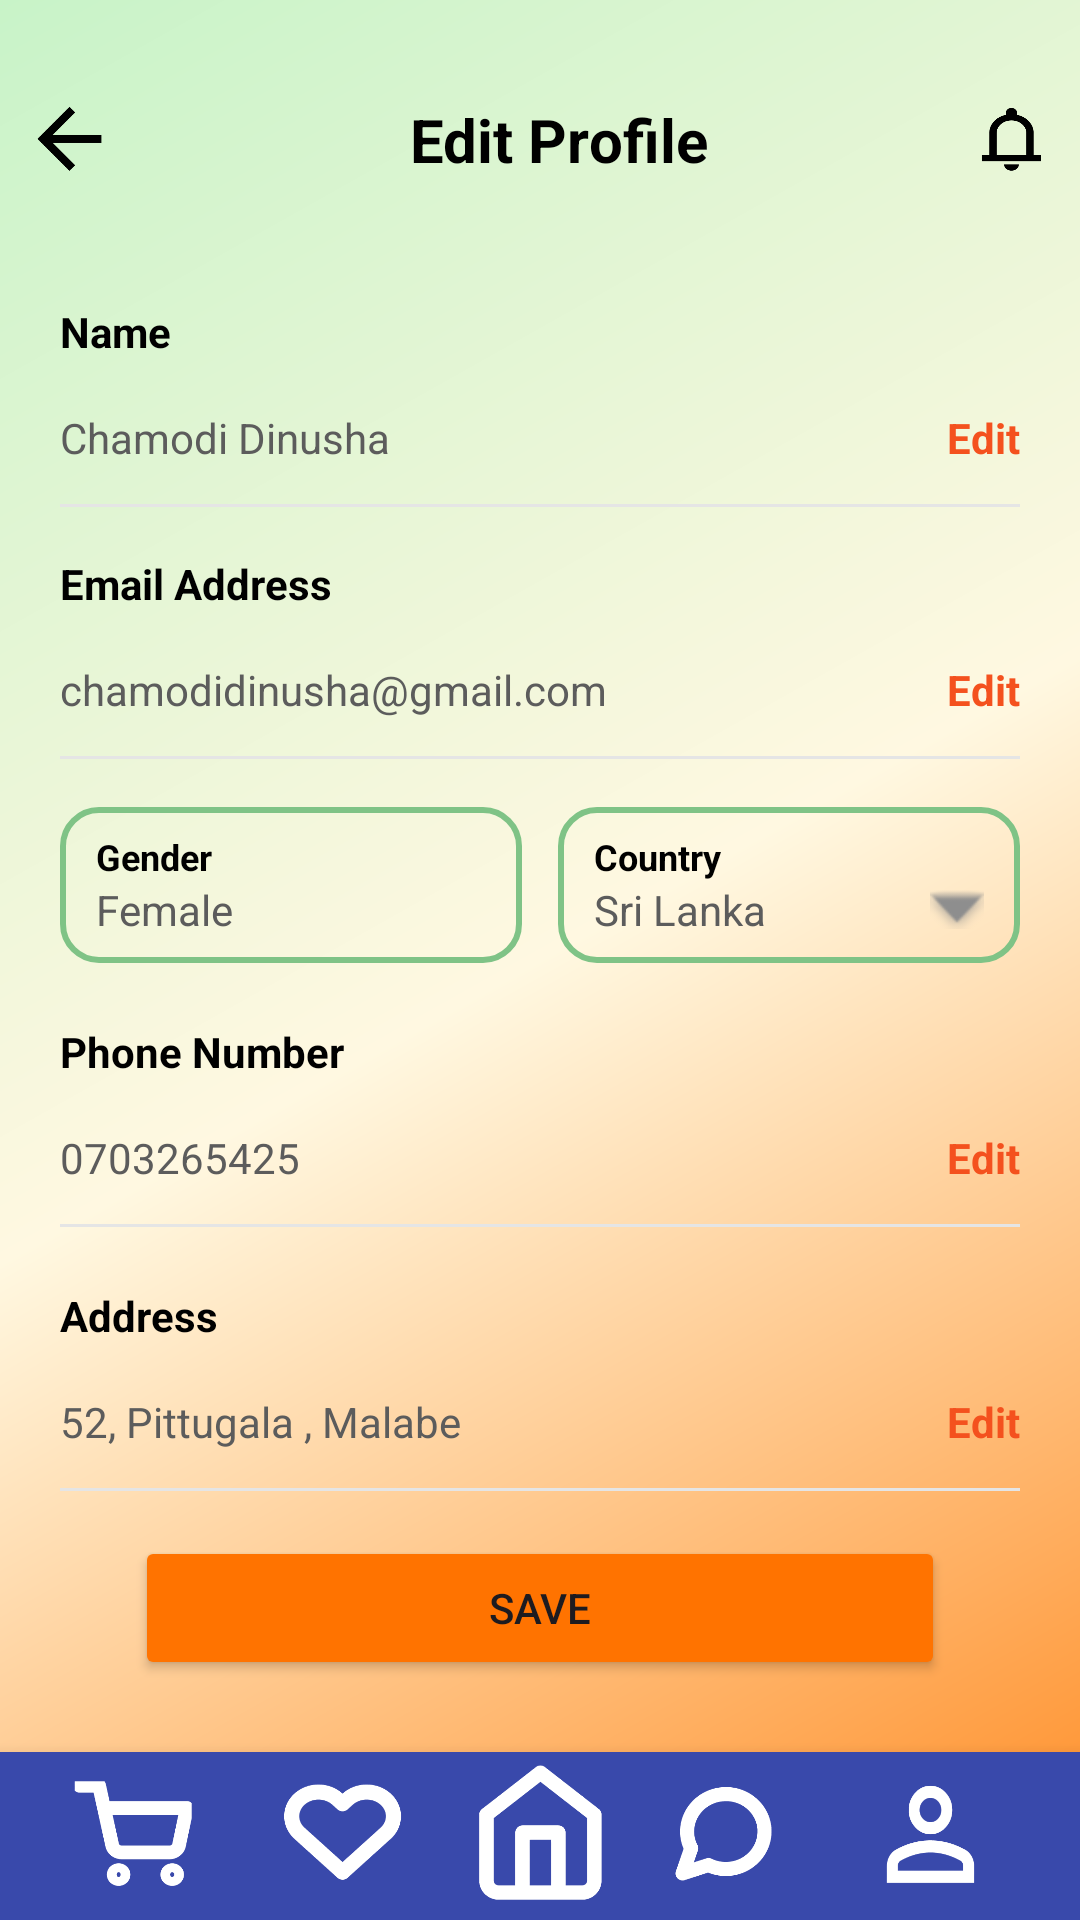

Point at icon controls on the screen. Image size 1080w x 1920h, points as [x,y].
arrow down float: [957,908]
back arrow: [70,139]
bell: [1011,139]
menu cart: [133,1833]
menu home: [540,1832]
menu profile: [930,1834]
menu wishlist: [342,1832]
